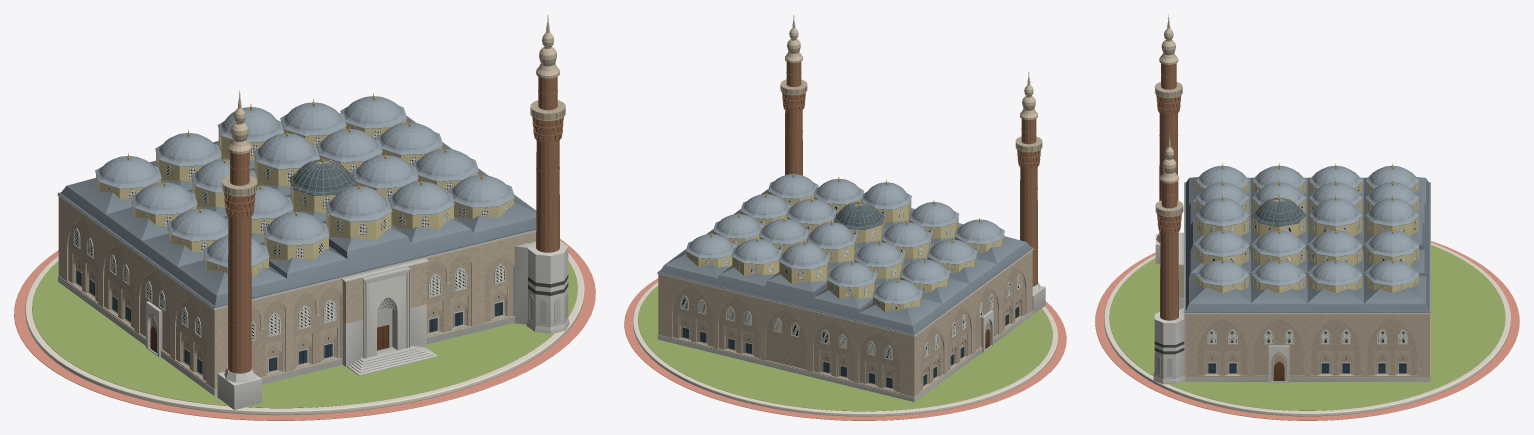
File: ulu-cami_gpt_v15_sunum.glb
3 views of the same model, side by side, from view 1: azimuth 30°, elevation 25°; view 2: azimuth 150°, elevation 25°; view 3: azimuth 270°, elevation 25° (orthographic). The views are drawn at different scales.
Visible parts, largest first — view 1: Kubbeler_19, Zemin_Cim, Cati, Cephe_Kuzey, Cephe_Dogu, Minare_1, Minare_2, Zemin_Golge, Pencere_Girintileri, Zemin_Kaide, Tac_Kapi, Giris_Cikintili_Blok (+7 smaller); view 2: Kubbeler_19, Zemin_Cim, Cephe_Guney, Cati, Cephe_Dogu, Pencere_Girintileri, Zemin_Golge, Minare_2, Zemin_Kaide, Minare_1, Mermer_Bant, Kasnak_Pencereleri (+4 smaller); view 3: Kubbeler_19, Zemin_Cim, Cephe_Bati, Cati, Minare_1, Zemin_Golge, Zemin_Kaide, Minare_2, Pencere_Girintileri, Kasnak_Pencereleri, Sadirvan_Kubbe, Mermer_Bant (+4 smaller).
Part boxes in pixels (x1,y1,x2,y2): Kubbeler_19: (95,96,514,277); Zemin_Cim: (32,261,577,408); Cati: (58,116,536,307); Cephe_Kuzey: (214,232,535,389); Cephe_Dogu: (59,197,213,388); Minare_1: (513,14,569,333); Minare_2: (217,90,261,409); Zemin_Golge: (14,239,595,420); Pencere_Girintileri: (72,252,508,379); Zemin_Kaide: (25,253,584,415); Tac_Kapi: (347,267,437,375); Giris_Cikintili_Blok: (341,258,428,366); Kubbeler_19: (686,174,1004,312); Zemin_Cim: (638,285,1052,411); Cephe_Guney: (658,274,914,396); Cati: (657,189,1032,334); Cephe_Dogu: (914,251,1032,396); Pencere_Girintileri: (678,292,1022,391); Zemin_Golge: (624,278,1066,420); Minare_2: (1015,72,1045,313); Zemin_Kaide: (633,282,1057,416); Minare_1: (780,15,807,175); Mermer_Bant: (657,310,1033,401); Kasnak_Pencereleri: (690,197,1003,309); Kubbeler_19: (1195,165,1419,293); Zemin_Cim: (1109,245,1505,410); Cephe_Bati: (1186,314,1428,380); Cati: (1184,177,1430,312); Minare_1: (1153,133,1185,384); Zemin_Golge: (1095,241,1519,420); Zemin_Kaide: (1104,242,1510,416); Minare_2: (1154,14,1182,263); Pencere_Girintileri: (1204,350,1410,375); Kasnak_Pencereleri: (1198,185,1416,288); Sadirvan_Kubbe: (1252,198,1306,236); Mermer_Bant: (1184,314,1430,381).
Size of the model in its own units: 106 by 62.14 by 96.
20 materials, 4 textured.
